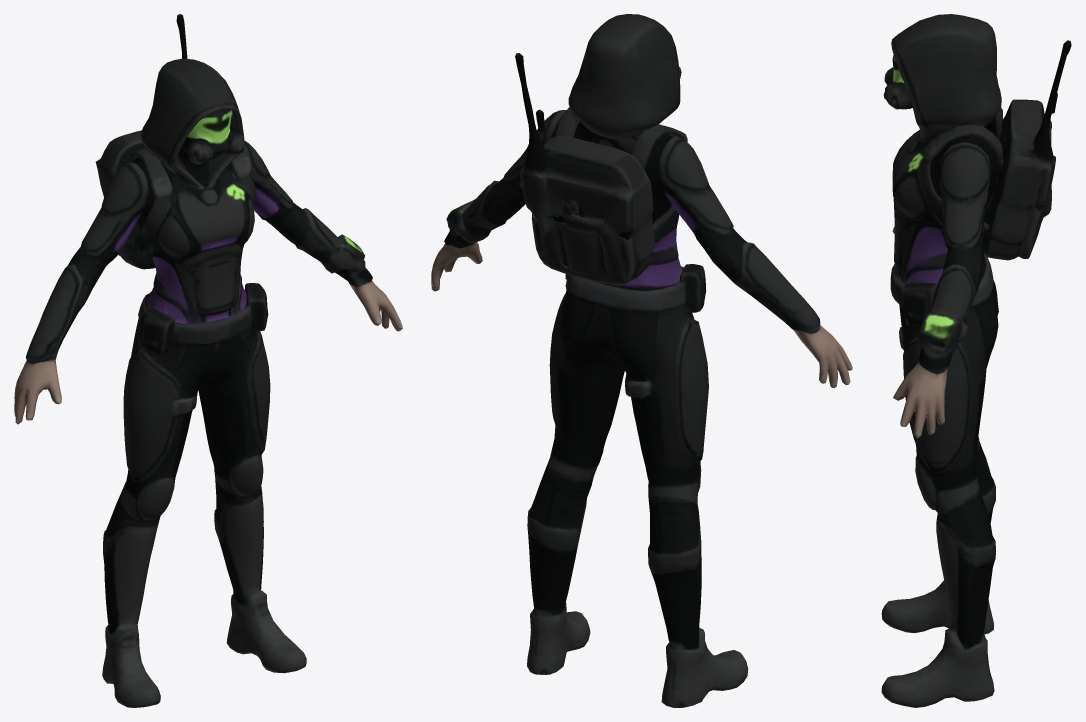
File: signal_source.glb
3 renders of one model, left to right at view 1: azimuth 30°, elevation 25°; view 2: azimuth 150°, elevation 25°; view 3: azimuth 270°, elevation 25°, orthographic. The views are drawn at different scales.
Parts seen in each view (by area): view 1: world; view 2: world; view 3: world.
Boxes of the visible parts, <box> form: world: <box>14,14,402,707</box>; world: <box>431,14,852,707</box>; world: <box>881,14,1071,707</box>.
Size of the model in its own units: 0.6654 by 1 by 0.2676.
Materials: 1 (1 with a texture image).
